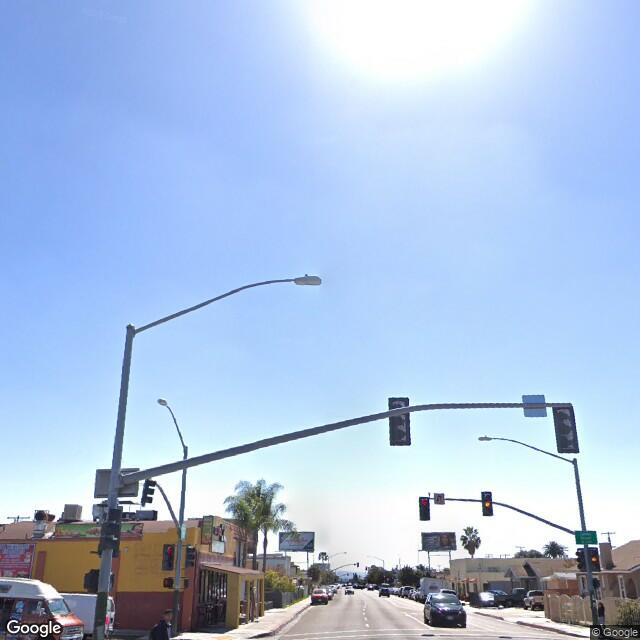light: (293, 274, 327, 288)
